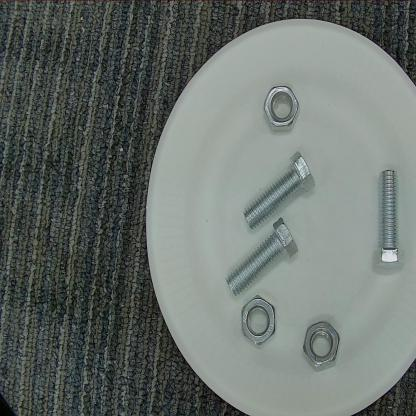FOD: (220, 216, 304, 301), (241, 146, 316, 233), (368, 163, 409, 284), (238, 293, 280, 360), (298, 316, 344, 375), (263, 84, 302, 131)
